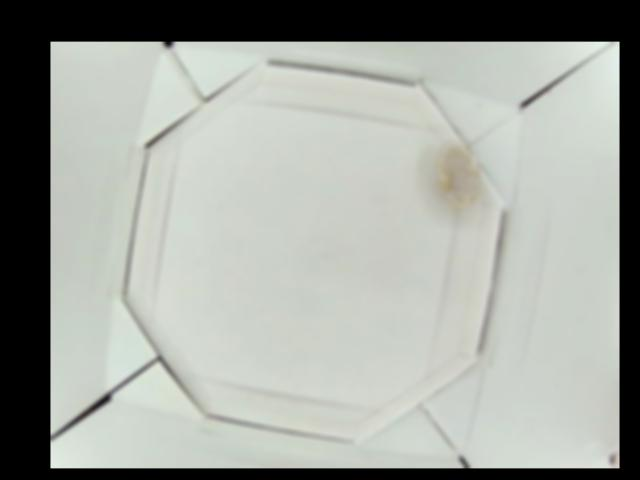Pebble: (435, 139, 478, 205)
